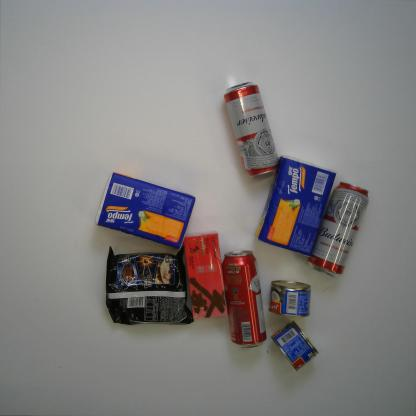Alcohol: (307, 181, 370, 278), (223, 81, 280, 176), (222, 250, 268, 348)
Canned Food: (270, 320, 319, 372), (268, 280, 312, 318)
Instant Drink: (184, 230, 228, 319)
Instant Noodles: (106, 245, 194, 325)
Tissue: (253, 155, 337, 258), (95, 172, 196, 250)
